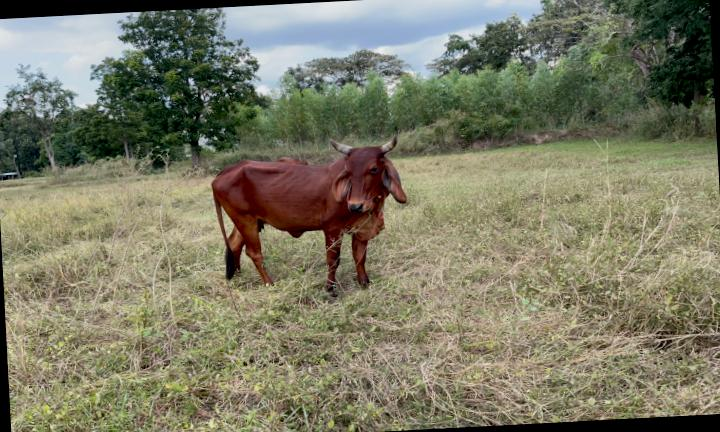Brahman: (212, 135, 406, 286)
